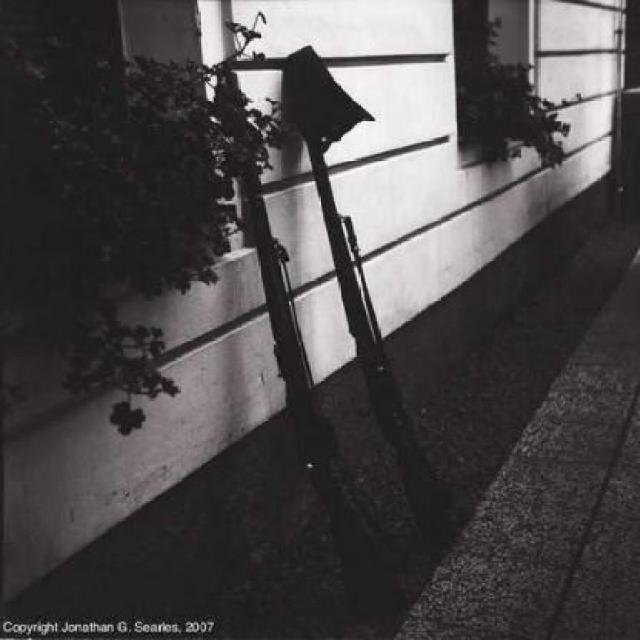weapon: (216, 70, 416, 628), (292, 56, 474, 560)
